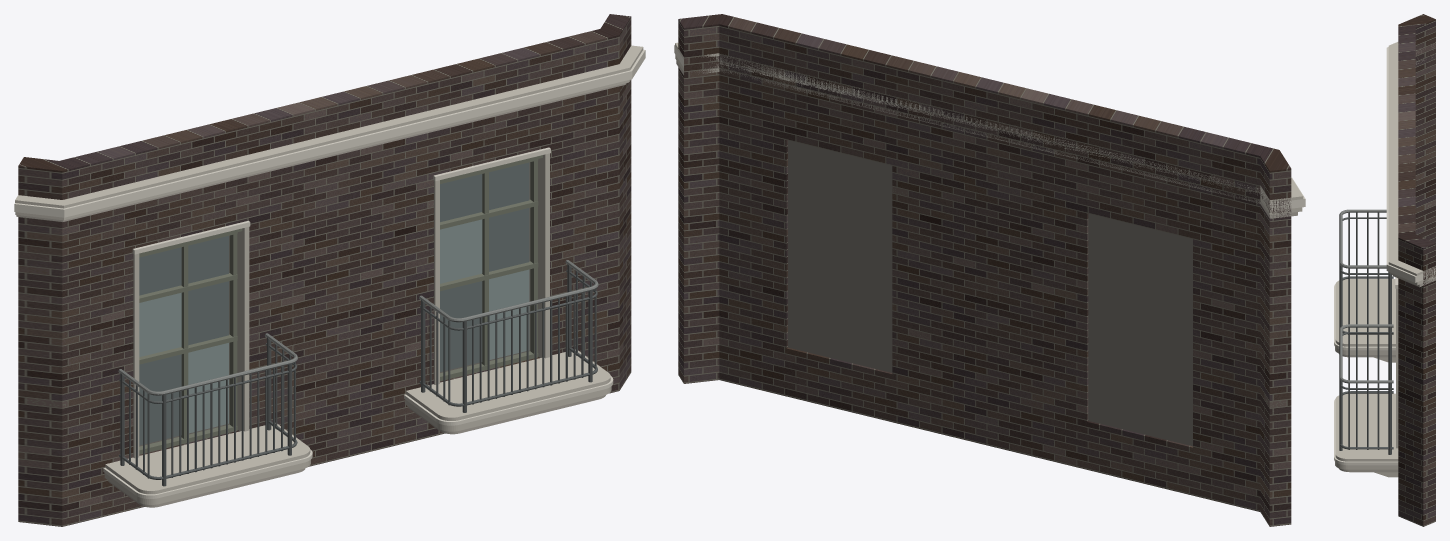
File: nanchang-107-twin-cantilever-balconies-near.glb
The picture shows the model from 3 angles, left to right: view 1: azimuth 30°, elevation 25°; view 2: azimuth 150°, elevation 25°; view 3: azimuth 270°, elevation 25°; orthographic projection. The views are drawn at different scales.
Parts seen in each view (by area): view 1: 南昌路107号住宅三层双挑台与铁栏; view 2: 南昌路107号住宅三层双挑台与铁栏; view 3: 南昌路107号住宅三层双挑台与铁栏.
Part boxes in pixels (bbox=[...]): 南昌路107号住宅三层双挑台与铁栏: bbox=[14, 14, 645, 526]; 南昌路107号住宅三层双挑台与铁栏: bbox=[674, 14, 1305, 526]; 南昌路107号住宅三层双挑台与铁栏: bbox=[1334, 14, 1435, 526].
Size of the model in its own units: 7.18 by 3.87 by 1.28.
10 materials, 1 textured.
